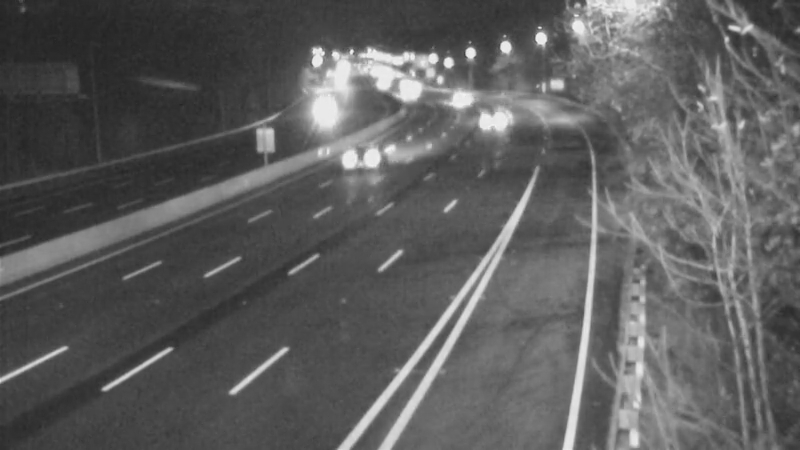vehicle: (318, 119, 398, 199), (390, 65, 440, 115), (436, 74, 486, 124), (380, 73, 430, 123), (464, 96, 514, 146), (295, 88, 345, 138)
